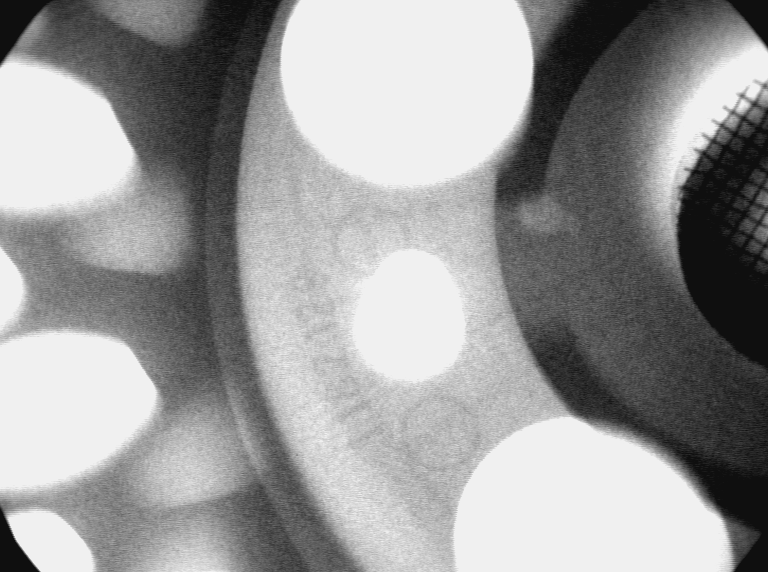defect: (517, 194, 585, 241)
